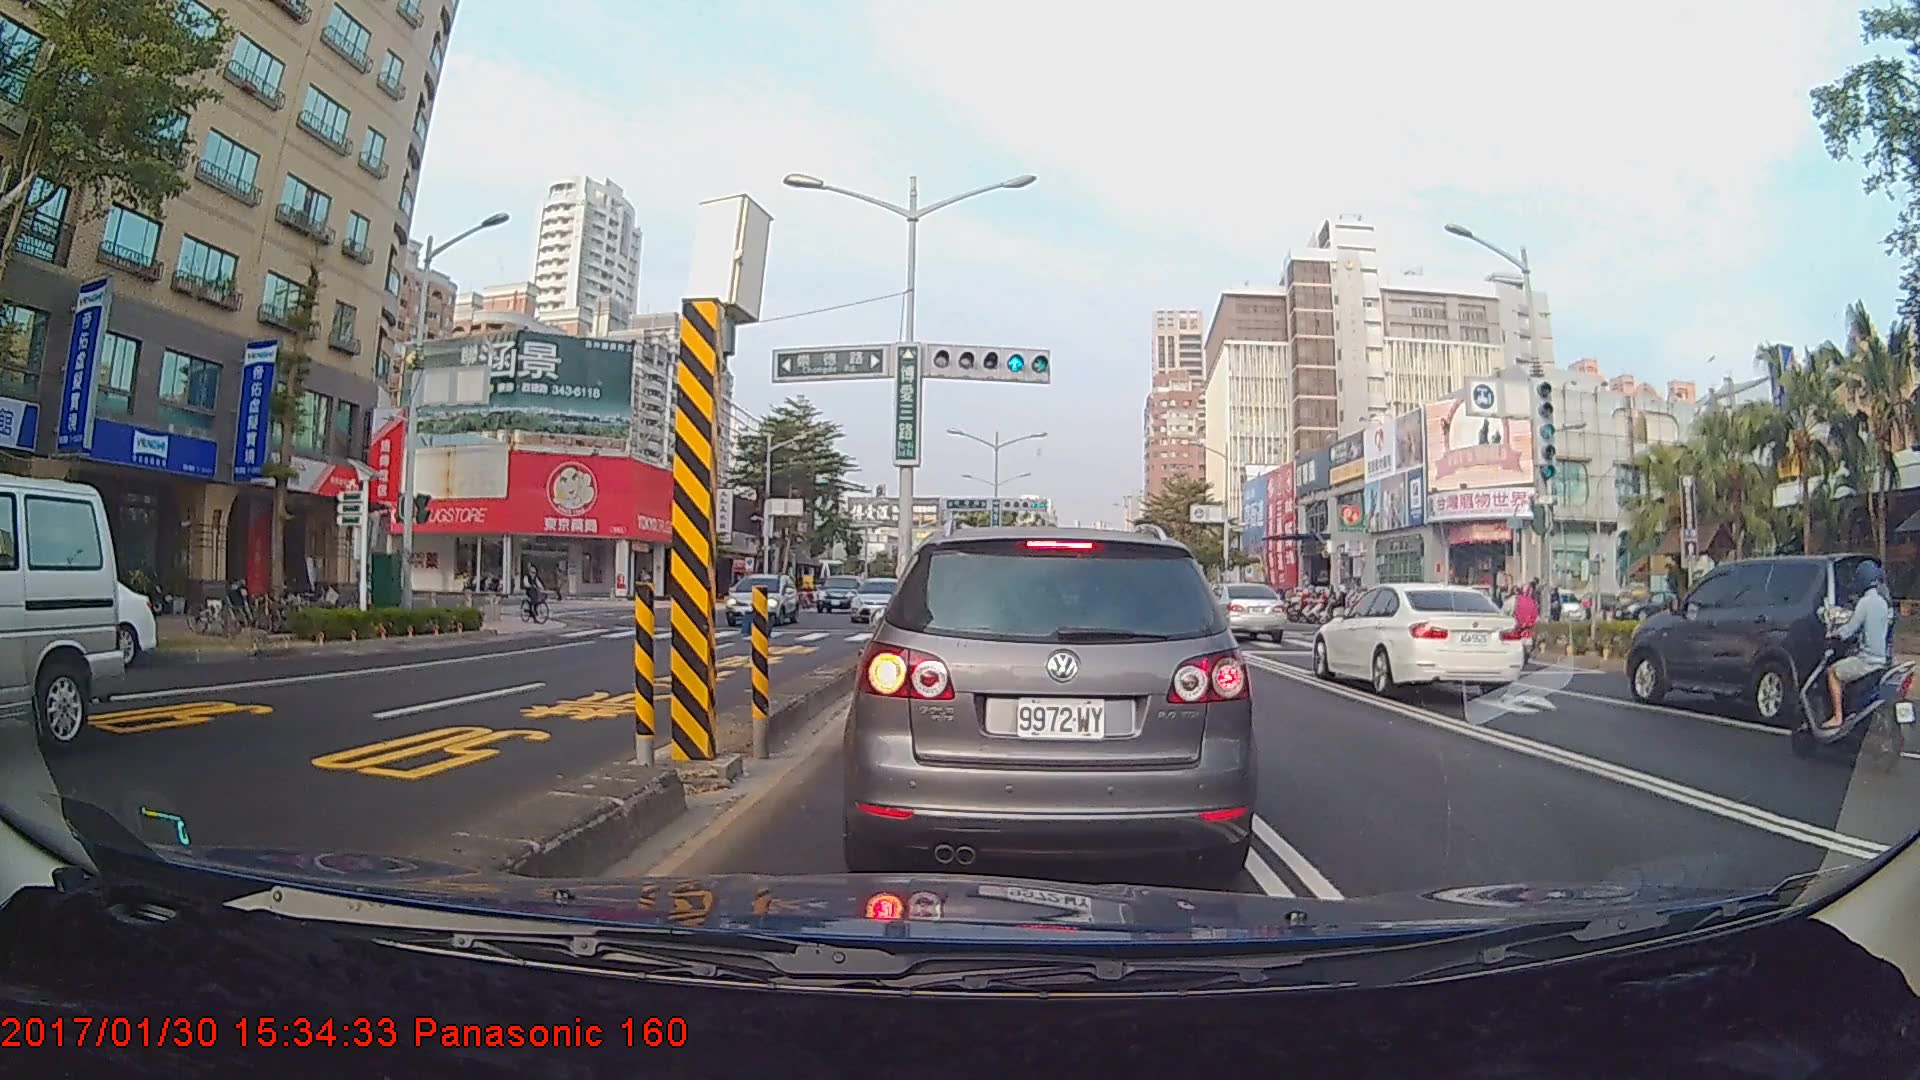rider: (1785, 553, 1918, 767), (518, 559, 561, 629)
vehicle: (853, 520, 1250, 878), (1625, 553, 1905, 726), (0, 469, 125, 759), (1308, 580, 1525, 701), (0, 561, 157, 671), (1193, 580, 1287, 642), (724, 572, 799, 627), (849, 575, 911, 623), (814, 575, 863, 614)
